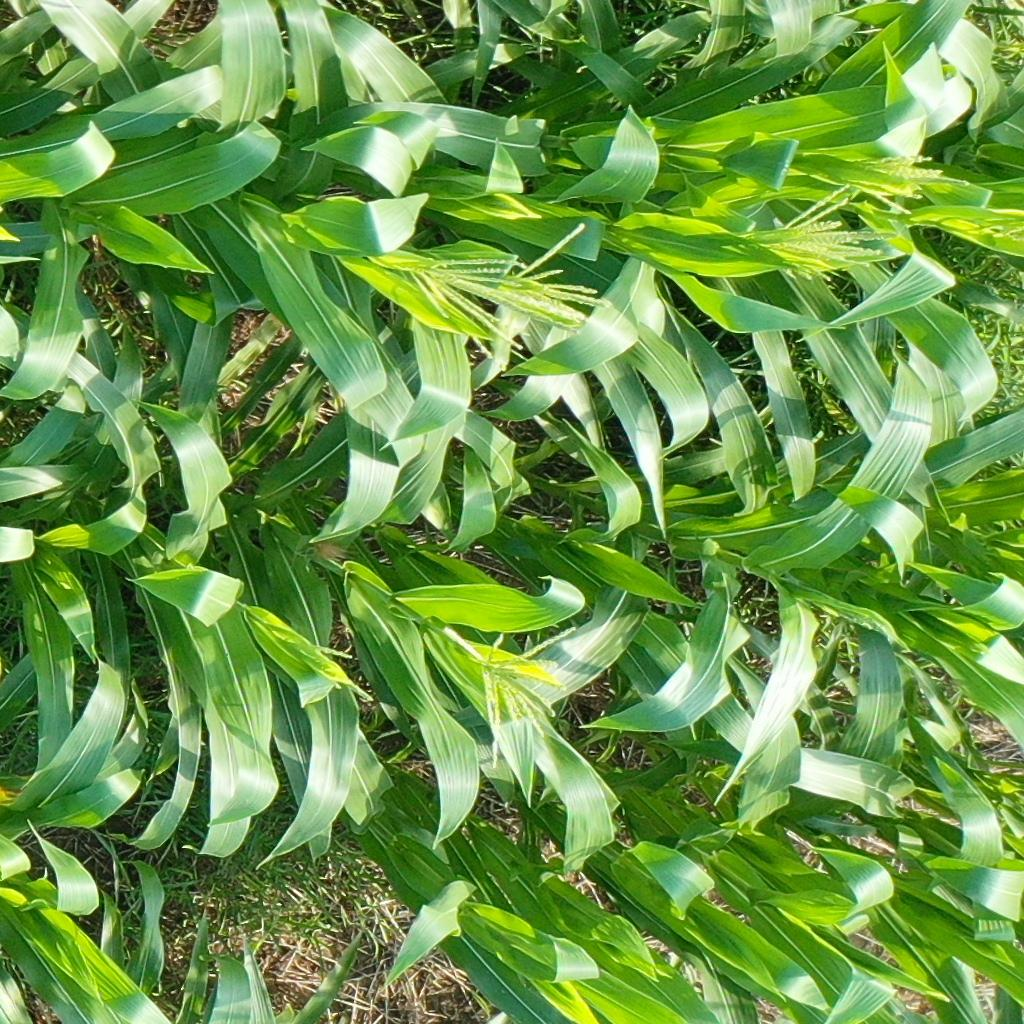Tassel: (437, 616, 584, 772), (397, 252, 589, 342), (730, 183, 893, 285), (490, 222, 612, 327), (835, 149, 971, 214), (297, 640, 372, 698), (828, 602, 903, 644), (985, 216, 1024, 245)
